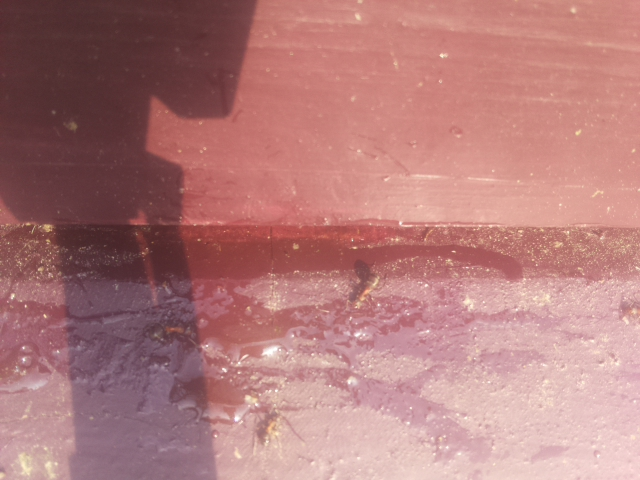ant: (339, 251, 391, 316), (147, 322, 185, 347), (257, 410, 280, 450), (617, 300, 640, 326)
